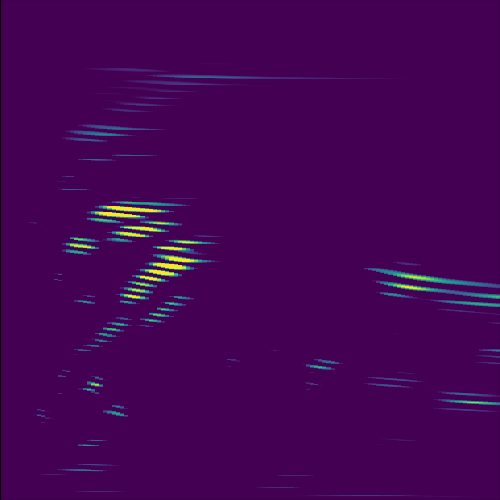semblance: (132, 236, 217, 282), (81, 199, 184, 225), (105, 219, 187, 243)
